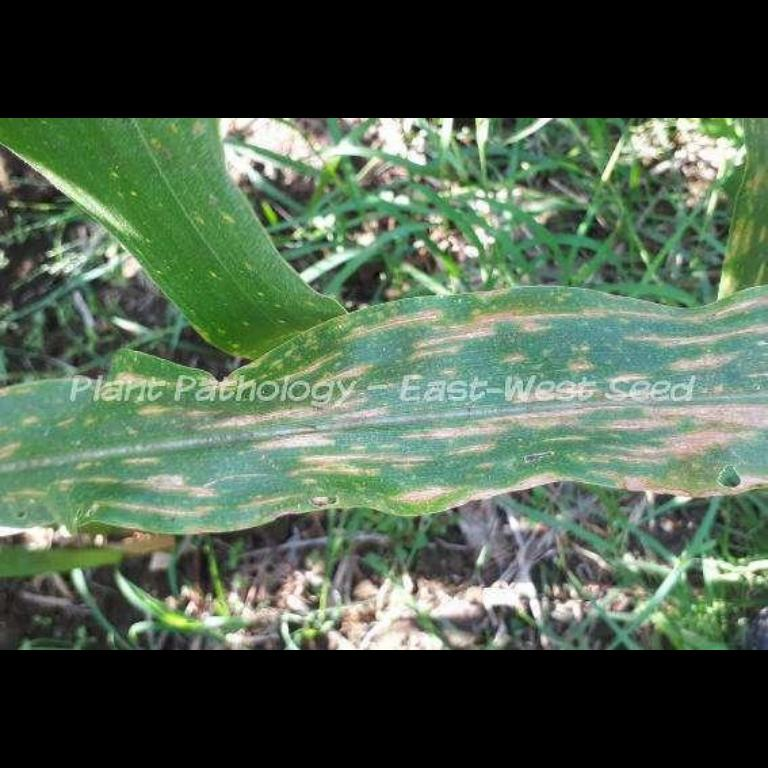blight: (230, 416, 420, 500)
